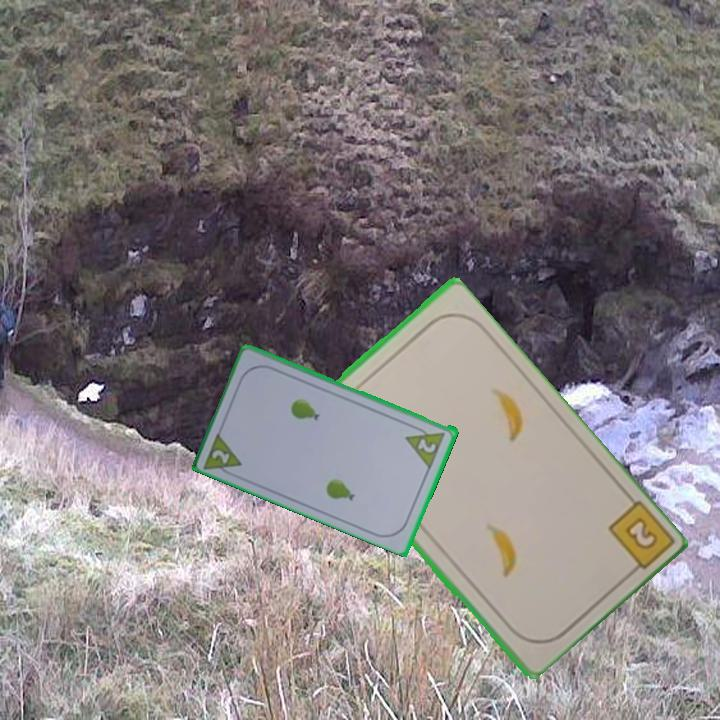2b: (603, 496, 674, 581)
2p: (414, 434, 439, 456), (208, 445, 233, 467)
